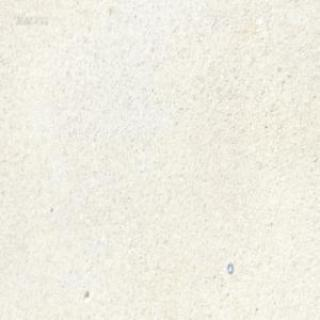Washertrack_idkeyframe: (226, 262, 232, 273)
